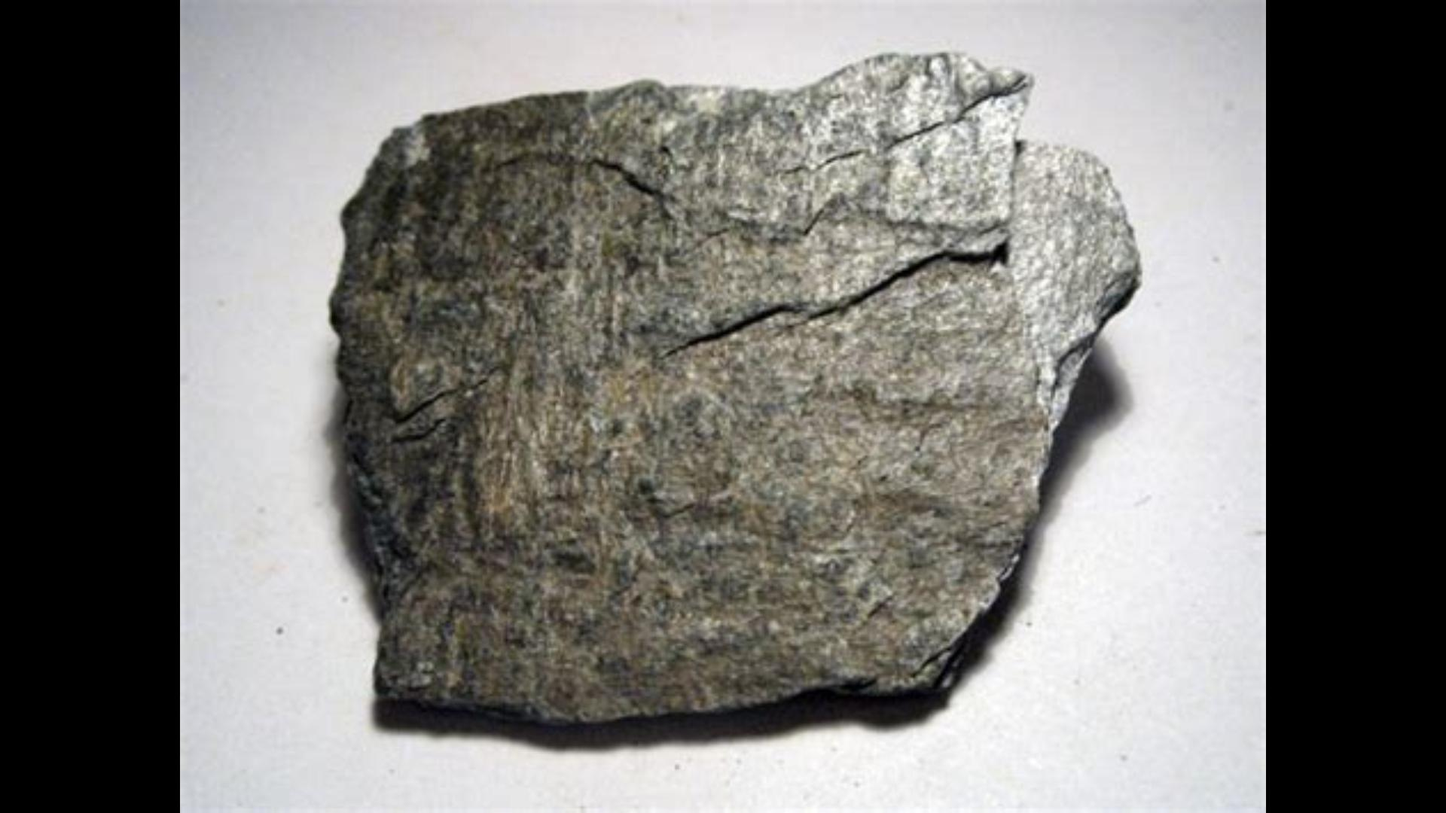rock: (334, 55, 1135, 717)
